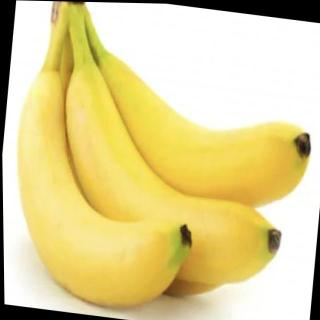banana: (45, 61, 297, 300), (1, 64, 210, 318), (78, 54, 319, 225)
